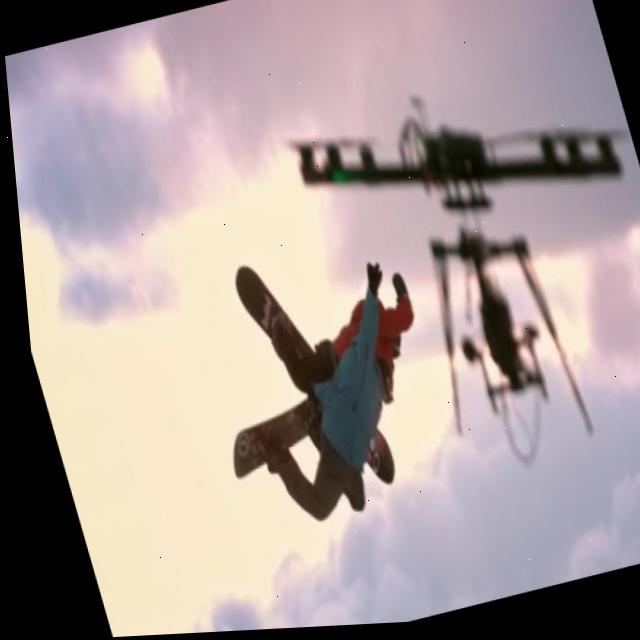drones: (252, 17, 640, 557)
